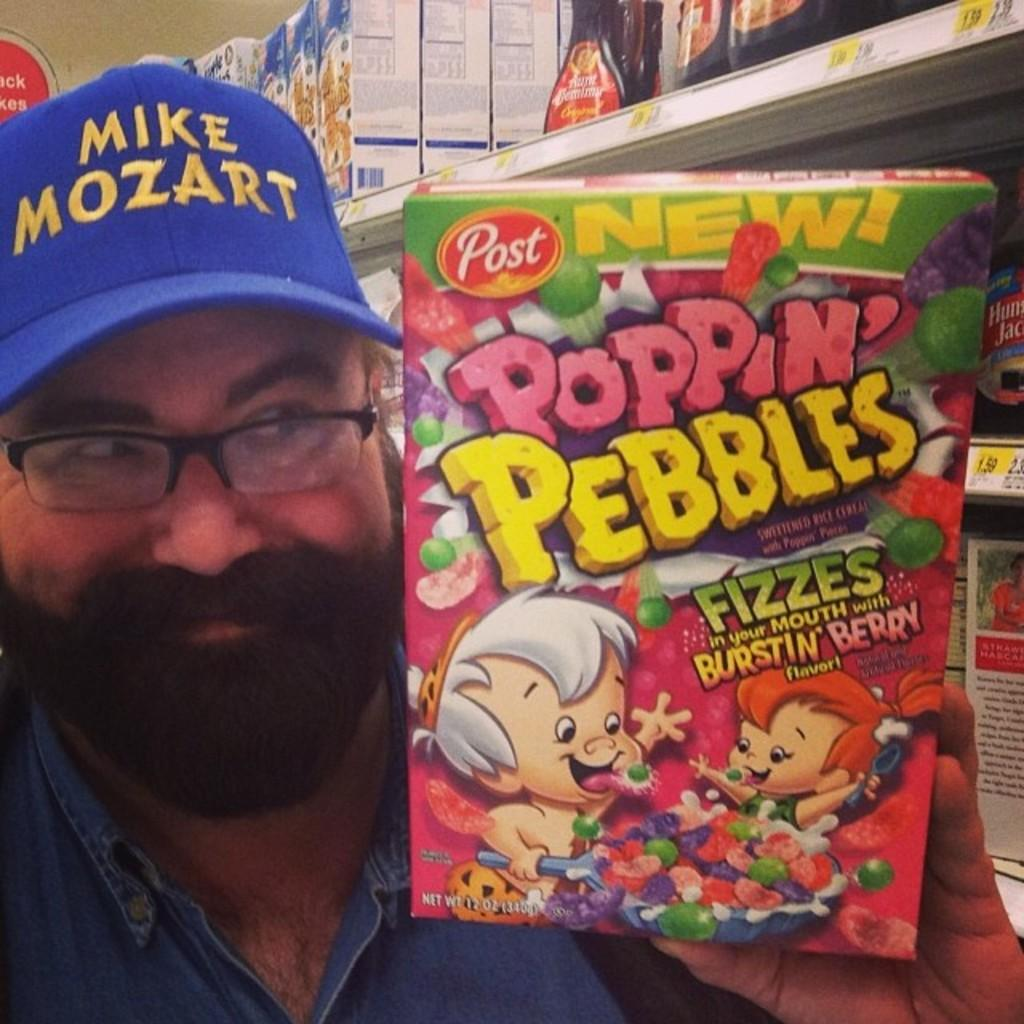Hat: (0, 62, 412, 417)
